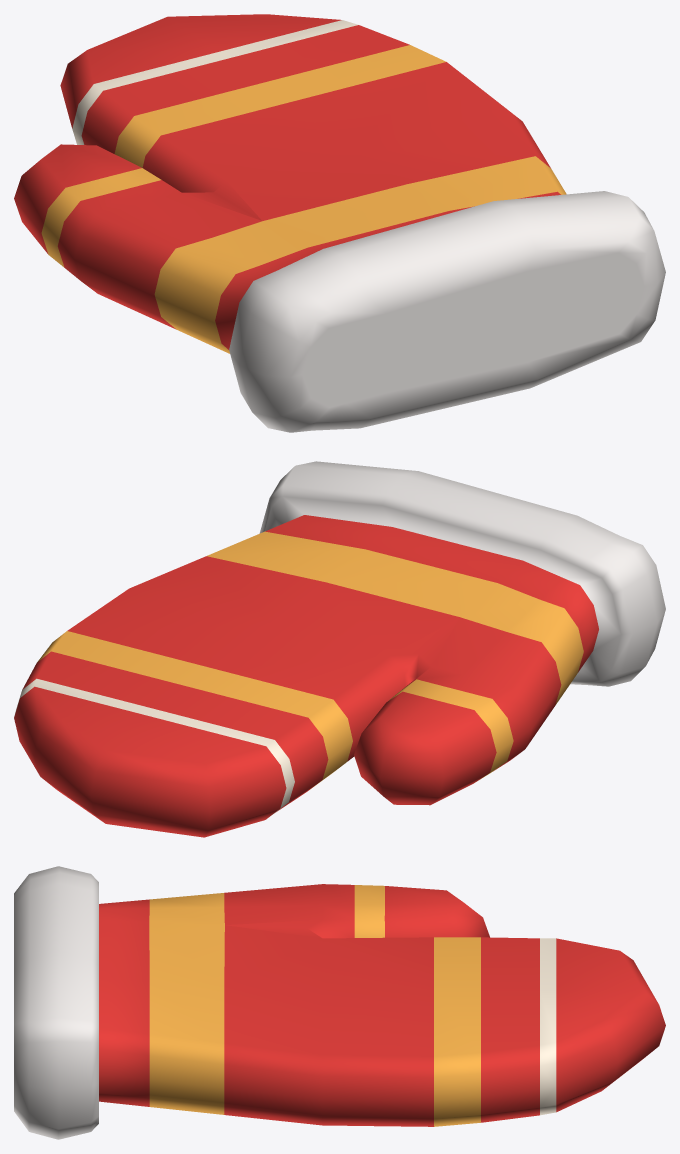
Rendered from glove.fbx.
The picture shows the model from 3 angles, top to bottom: view 1: azimuth 30°, elevation 25°; view 2: azimuth 150°, elevation 25°; view 3: azimuth 270°, elevation 25°; orthographic projection. The views are drawn at different scales.
Visible parts, largest first — view 1: glove; view 2: glove; view 3: glove.
Part boxes in pixels (left/top/right/bottom): glove: left=14, top=14, right=665, bottom=432; glove: left=14, top=461, right=665, bottom=837; glove: left=14, top=866, right=665, bottom=1139.
Size of the model in its own units: 16.08 by 5.97 by 22.55.
